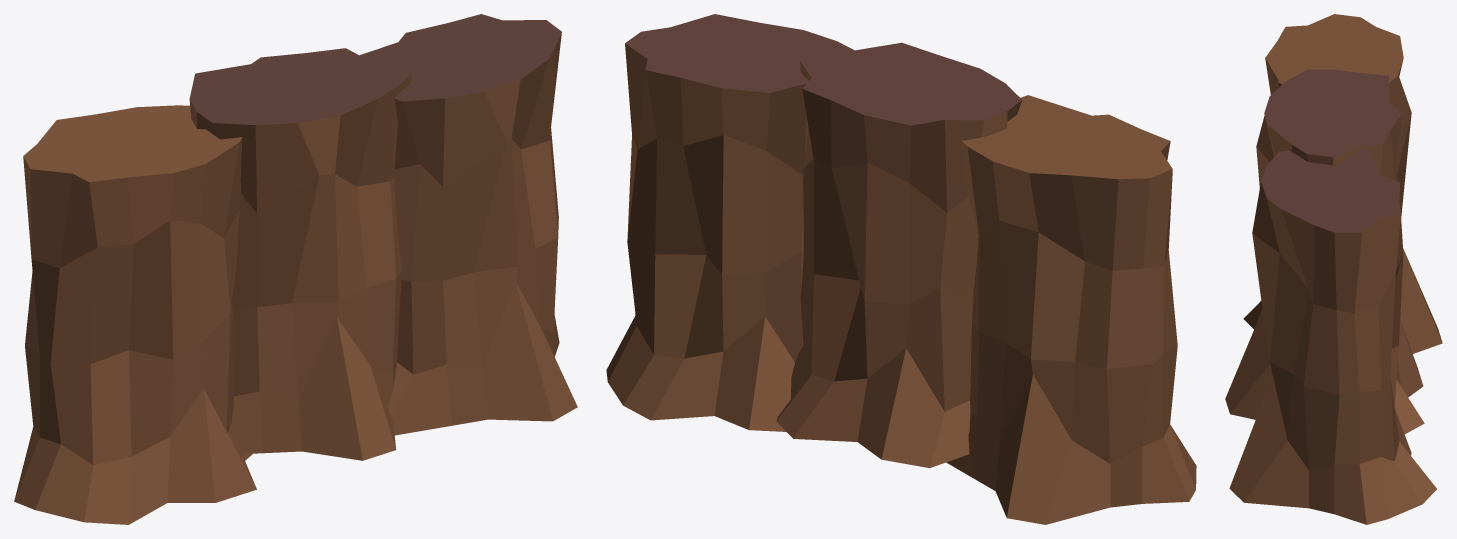
The model's file is cliff_1.fbx.
3 views of the same model, side by side, from view 1: azimuth 30°, elevation 25°; view 2: azimuth 150°, elevation 25°; view 3: azimuth 270°, elevation 25° (orthographic). The views are drawn at different scales.
Parts seen in each view (by area): view 1: Cylinder.002, Cylinder.001, Cylinder.003; view 2: Cylinder.002, Cylinder.001, Cylinder.003; view 3: Cylinder.003, Cylinder.001, Cylinder.002.
Boxes of the visible parts, <box> form: Cylinder.002: <box>14,105,256,524</box>; Cylinder.001: <box>189,48,411,460</box>; Cylinder.003: <box>360,14,577,435</box>; Cylinder.002: <box>946,95,1196,524</box>; Cylinder.001: <box>776,42,1022,467</box>; Cylinder.003: <box>606,14,854,431</box>; Cylinder.003: <box>1229,147,1436,524</box>; Cylinder.001: <box>1225,69,1424,433</box>; Cylinder.002: <box>1243,14,1442,353</box>.
Size of the model in its own units: 898 by 537 by 345.
